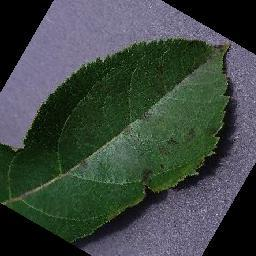apple healthy: (0, 35, 233, 244)
